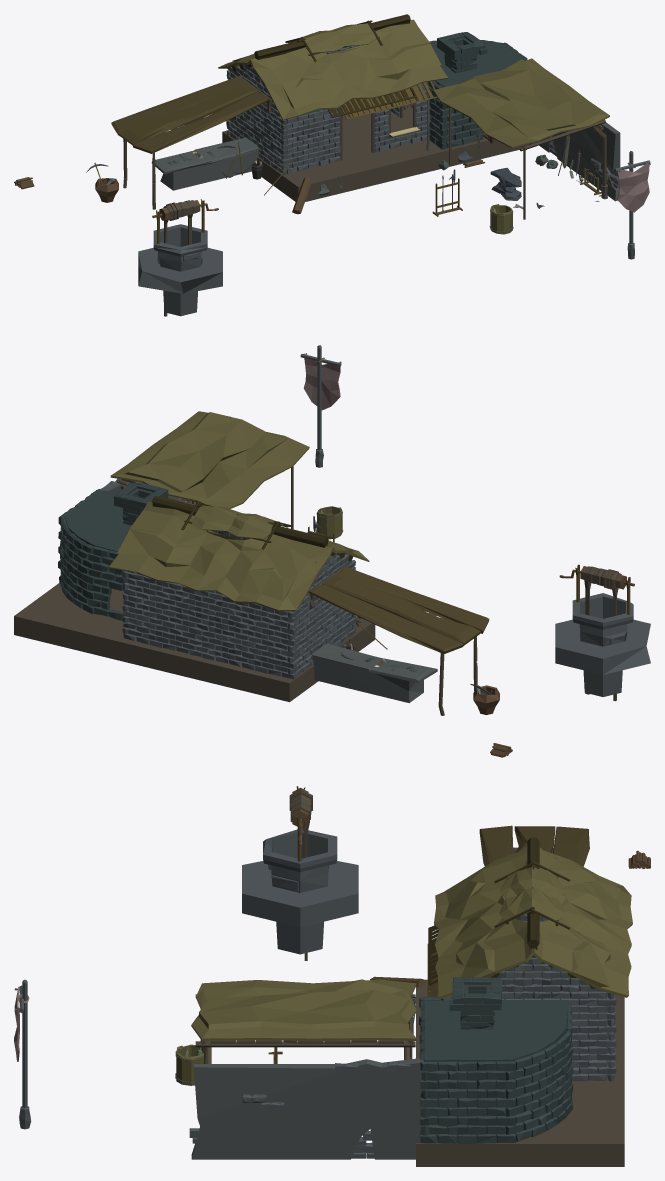
File: 打铁铺.fbx
3 views of the same model, one above another, from view 1: azimuth 30°, elevation 25°; view 2: azimuth 150°, elevation 25°; view 3: azimuth 270°, elevation 25° (orthographic). The views are drawn at different scales.
Parts seen in each view (by area): view 1: polySurface732; view 2: polySurface732; view 3: polySurface732.
Boxes of the visible parts, left/top/right/bottom form: polySurface732: left=14, top=14, right=650, bottom=316; polySurface732: left=14, top=345, right=650, bottom=757; polySurface732: left=14, top=786, right=650, bottom=1166.
Size of the model in its own units: 2388 by 846 by 2138.
